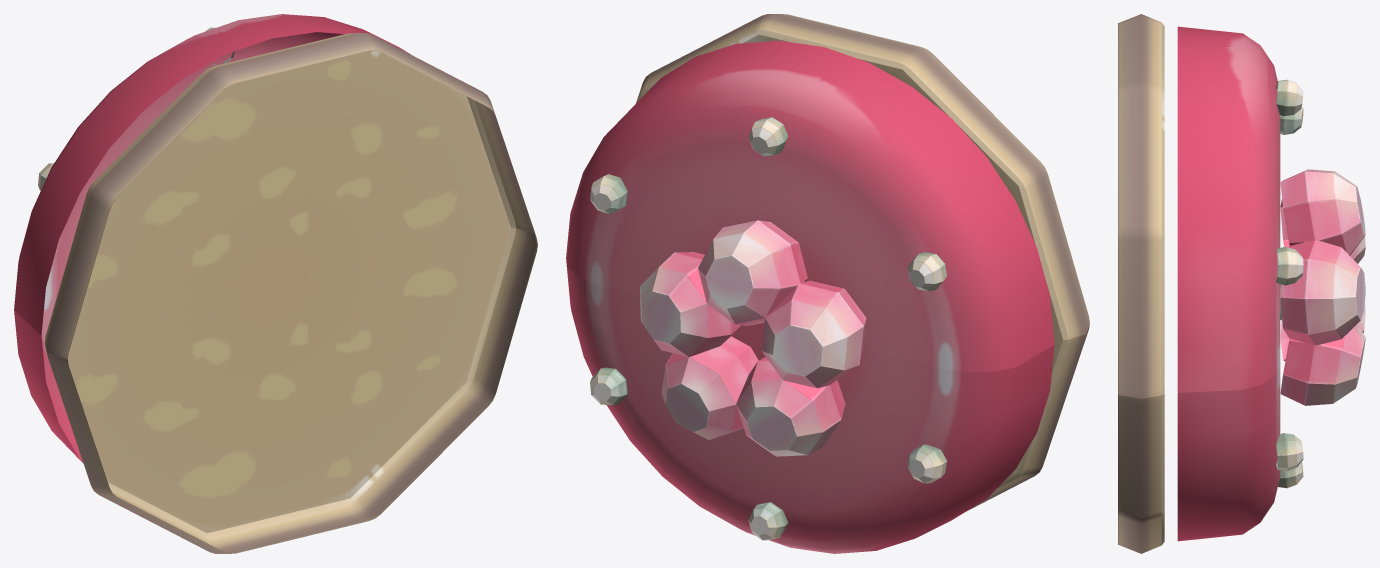
Rendered from Donut01_Wheel.fbx.
3 views of the same model, side by side, from view 1: azimuth 30°, elevation 25°; view 2: azimuth 150°, elevation 25°; view 3: azimuth 270°, elevation 25° (orthographic). The views are drawn at different scales.
Parts seen in each view (by area): view 1: Donut01_Wheel2; view 2: Donut01_Wheel2; view 3: Donut01_Wheel2.
Part boxes in pixels (x1,y1,x2,y2): Donut01_Wheel2: [14, 14, 537, 553]; Donut01_Wheel2: [566, 14, 1089, 553]; Donut01_Wheel2: [1118, 14, 1365, 553].
Bounding box in the file's own units: 565 × 540 × 257.
